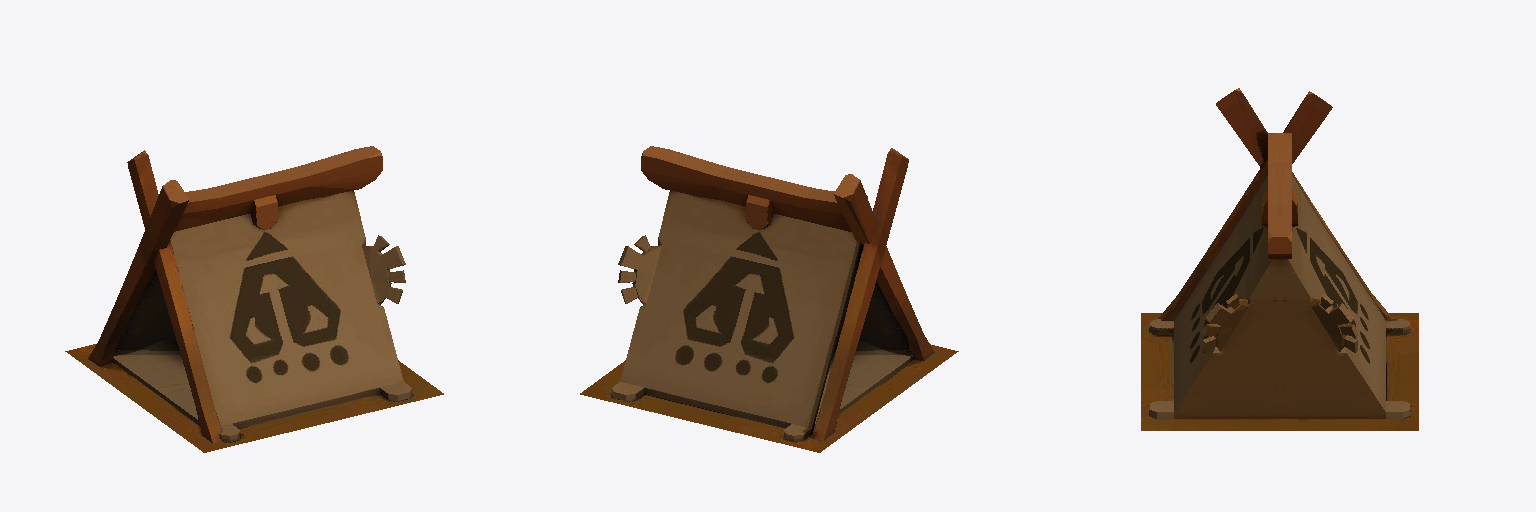
3 renders of one model, left to right at view 1: azimuth 30°, elevation 25°; view 2: azimuth 150°, elevation 25°; view 3: azimuth 270°, elevation 25°, orthographic.
Visible parts, largest first — view 1: BUD_Building_A; view 2: BUD_Building_A; view 3: BUD_Building_A.
Boxes of the visible parts, box(x1,y1,x2,y2) form: BUD_Building_A: box(65, 146, 443, 452); BUD_Building_A: box(580, 146, 958, 452); BUD_Building_A: box(1141, 88, 1418, 430).
Bounding box in the file's own units: 3.63 × 3.34 × 3.6.
1 materials, 1 textured.